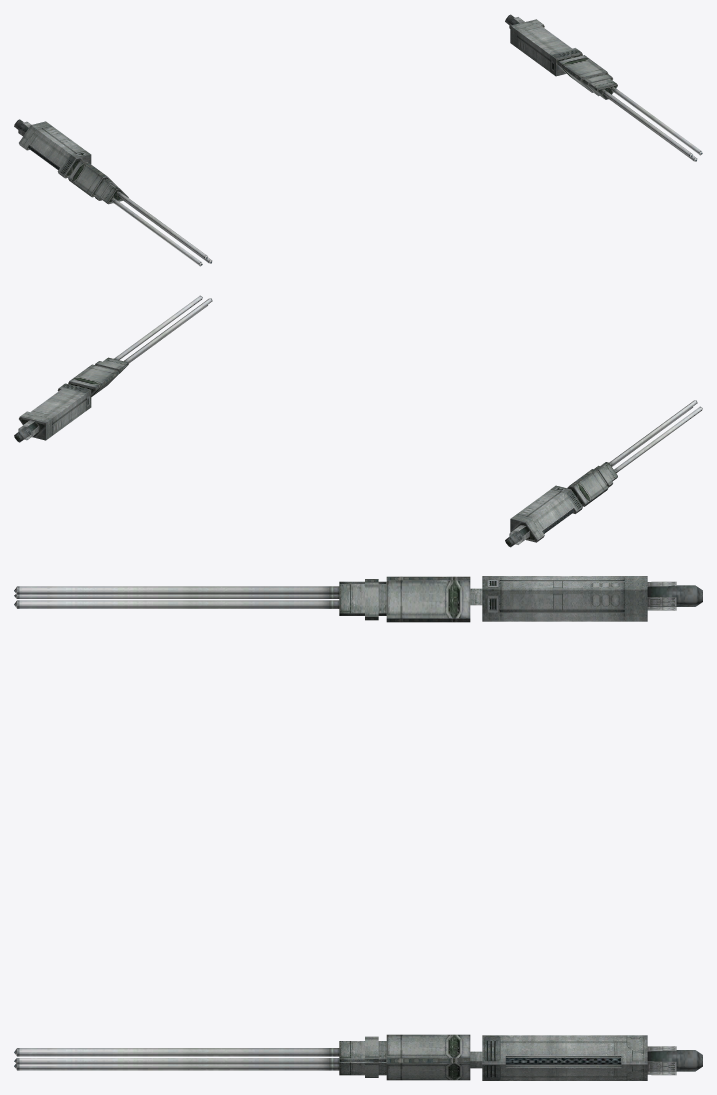
Rendered from xwing_weapon1_pos_s04_l1.fbx.
The picture shows the model from 3 angles, top to bottom: view 1: azimuth 30°, elevation 25°; view 2: azimuth 150°, elevation 25°; view 3: azimuth 270°, elevation 25°; orthographic projection. The views are drawn at different scales.
Visible parts, largest first — view 1: mesh_node; view 2: mesh_node; view 3: mesh_node.
Part boxes in pixels (left/top/right/bottom): mesh_node: left=14, top=14, right=702, bottom=266; mesh_node: left=14, top=295, right=702, bottom=547; mesh_node: left=14, top=576, right=702, bottom=1080.
Size of the model in its own units: 14.51 by 0.9404 by 9.14.
